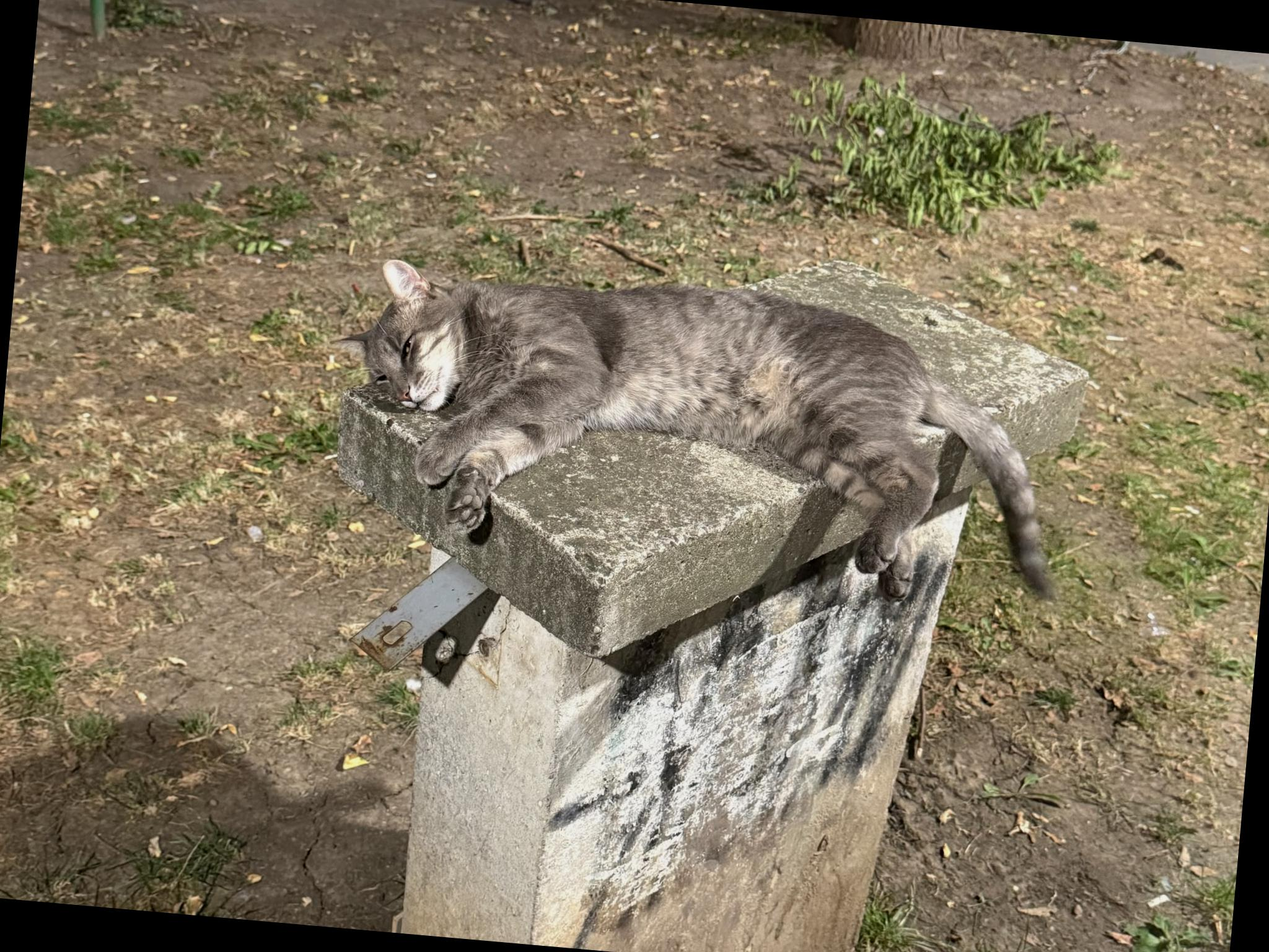macka: (344, 254, 1075, 613)
